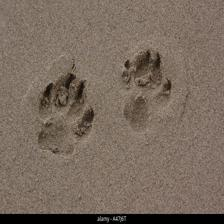dog: (32, 72, 95, 164), (116, 50, 174, 136)
